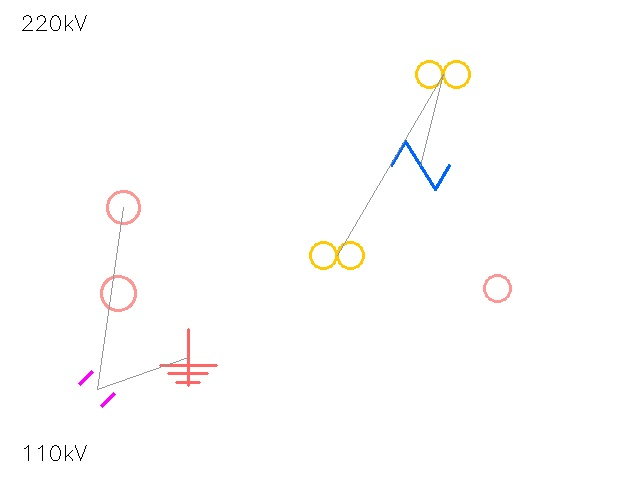capacitor: (71, 363, 123, 415)
circuit_breaker: (392, 137, 448, 193)
current_transformer: (470, 261, 524, 315)
ground: (160, 329, 216, 385)
reactor: (90, 174, 156, 240)
transformer_2w: (303, 221, 371, 289), (409, 40, 477, 108)
voltage_transformer: (84, 259, 152, 327)
